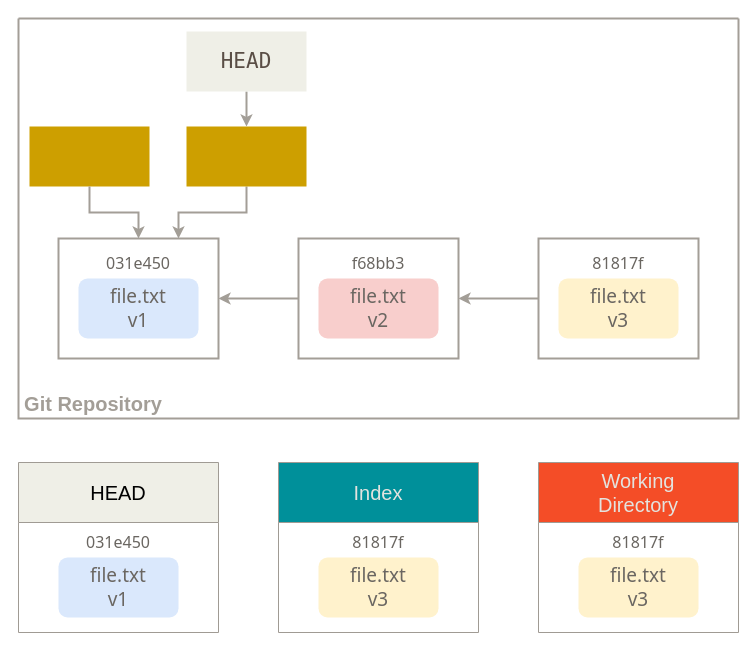
Image size: 756x650. Some labels were removed from this diagram. The shapes that lost their labels are listed below. From the top down, each one's centre as x and y in pixels, then its label:
At (89,156): "main".
At (246,156): "dev".
